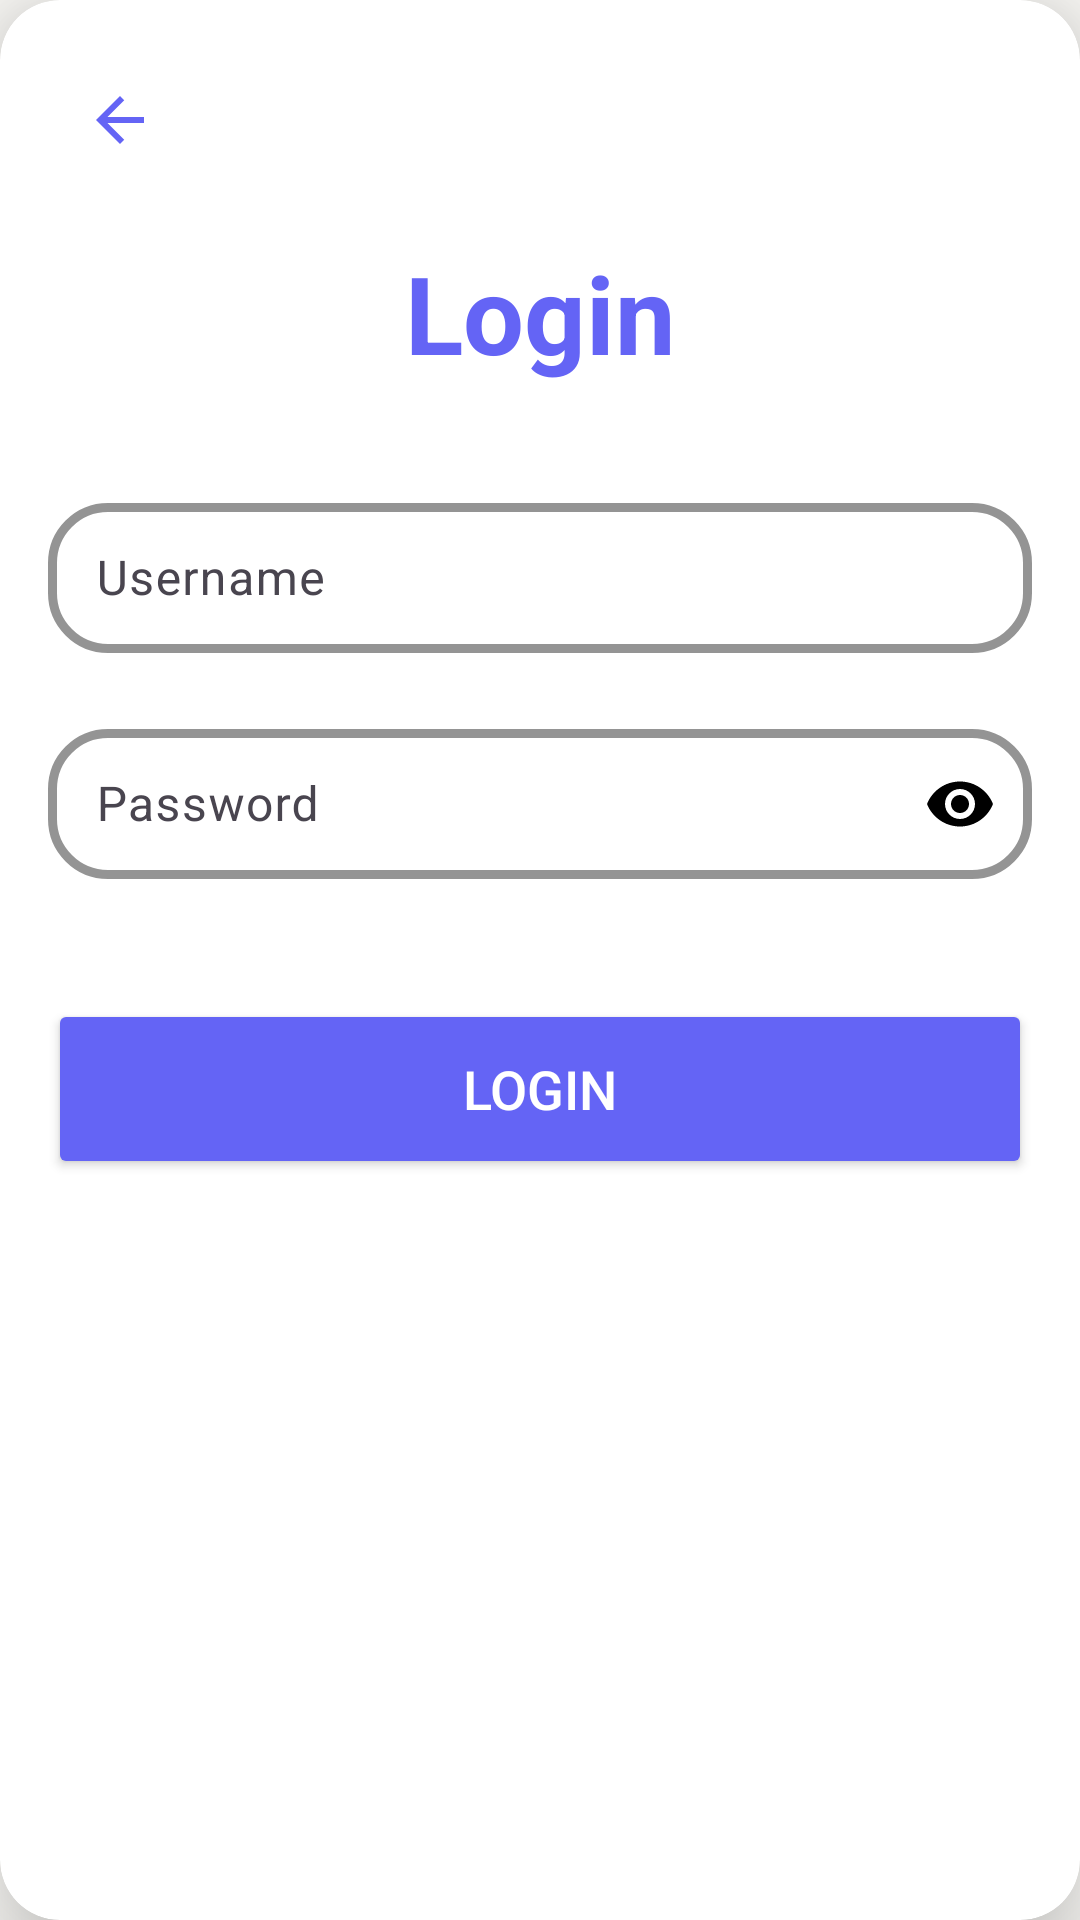

Icon bounding boxes for this 1080w x 1920h phone screenshot, format bbox=[x1, y1, x2, y2]:
Back to Startscreen: bbox=[96, 96, 144, 144]
